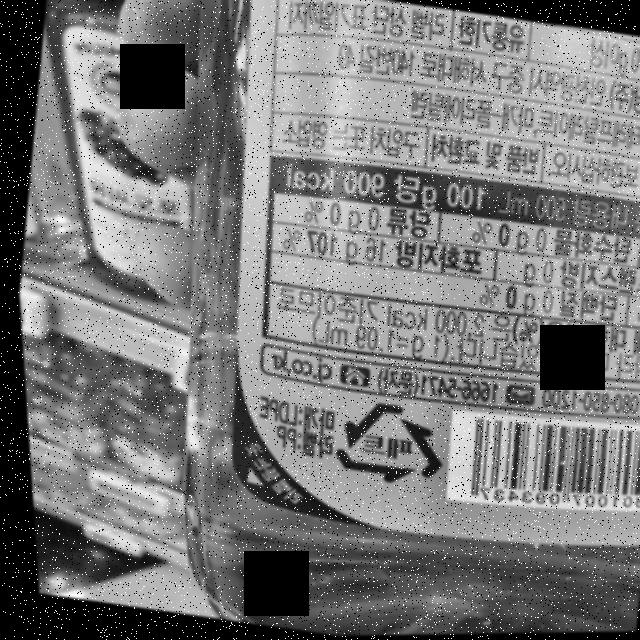PET: (318, 394, 447, 496)
